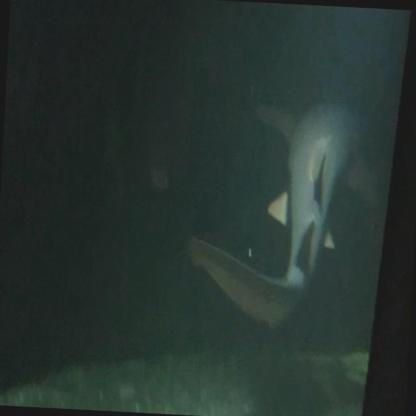shark: (183, 88, 388, 338)
